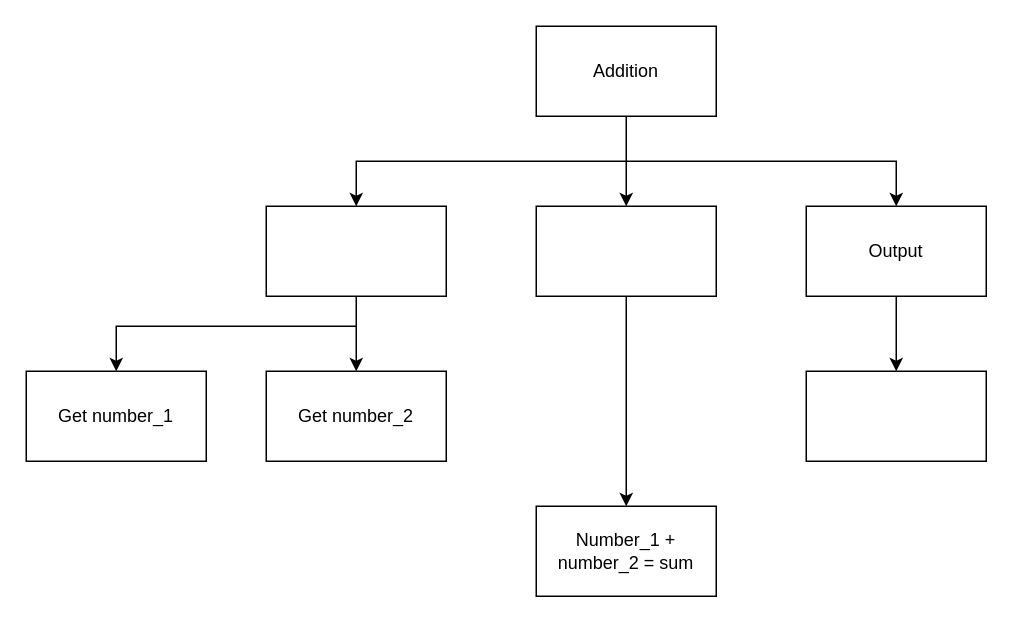
This 1013x623 diagram has some shape labels left out. The centre of each missing label's shape, as x and y in pixels:
Input: pixel 355 250
Process: pixel 625 250
Show sum: pixel 895 415
